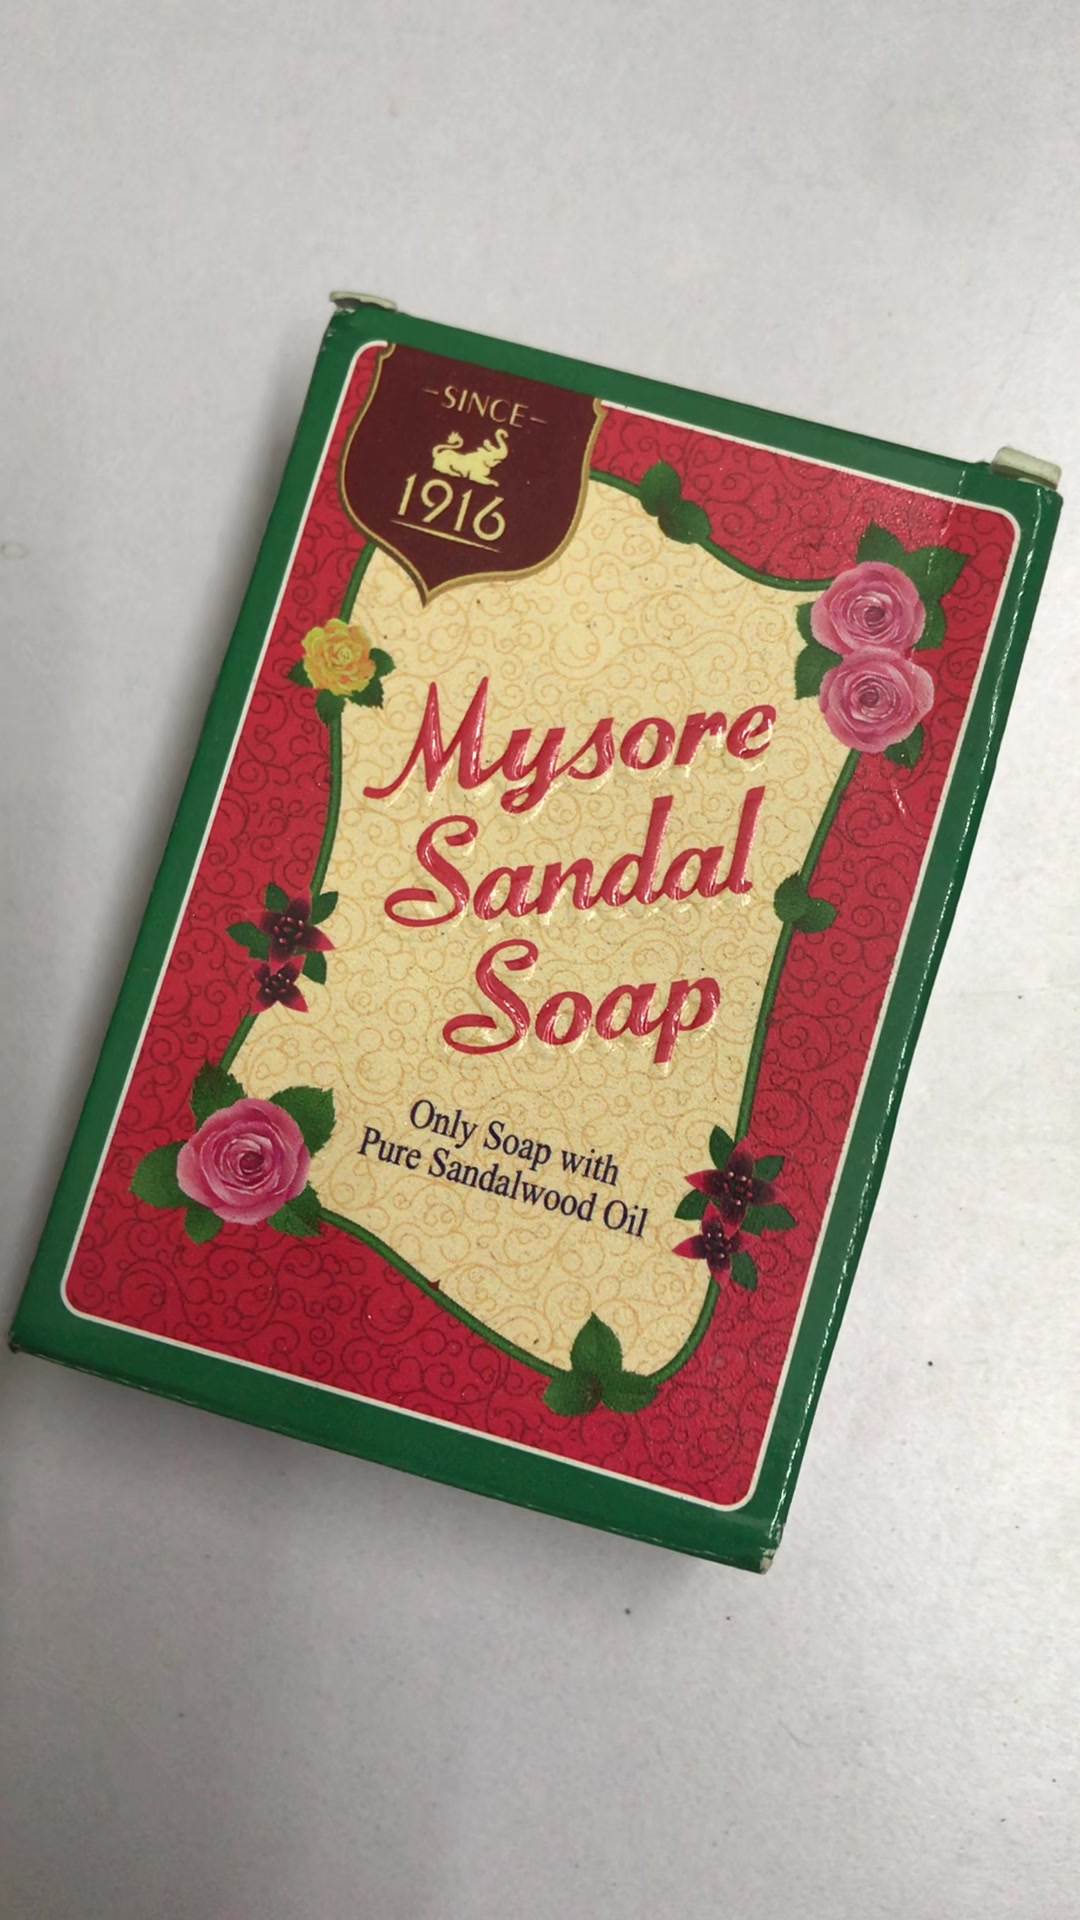mysore sandal soap: (9, 305, 1062, 1571)
